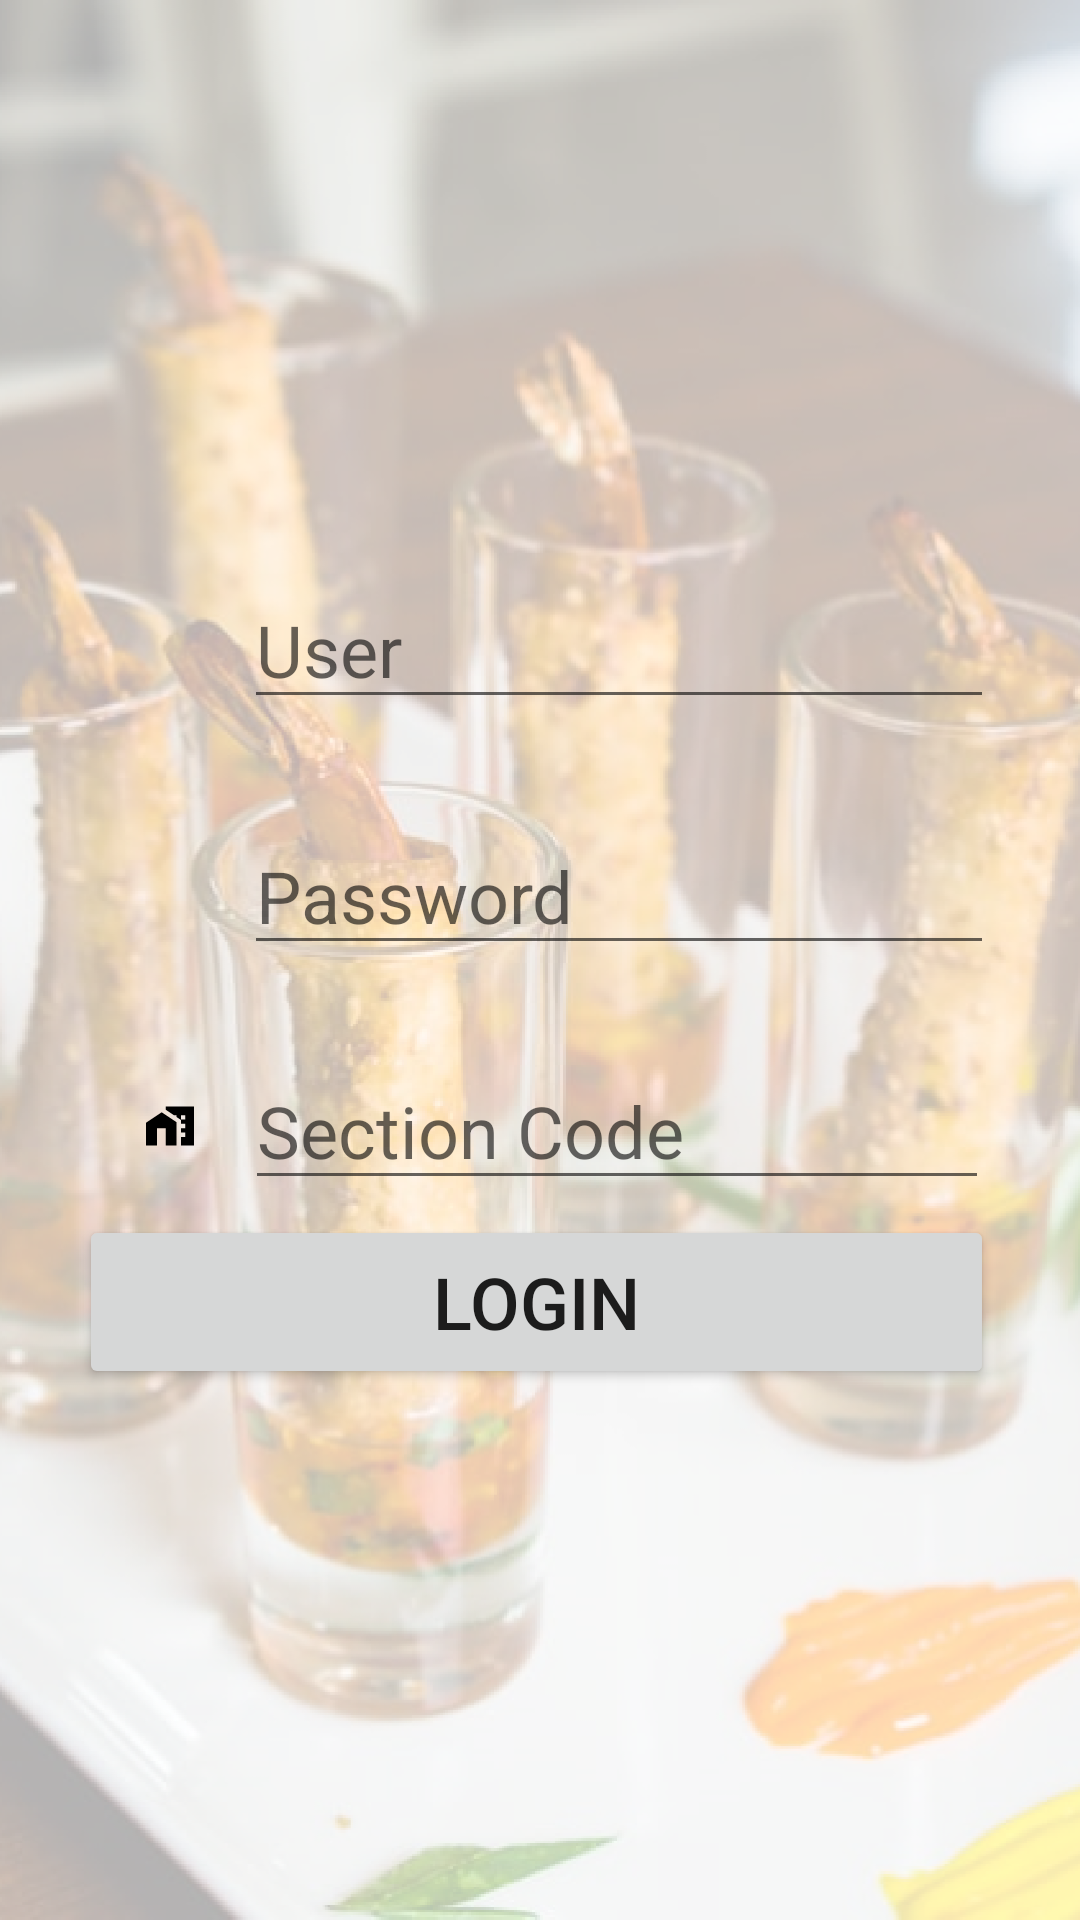

Where icons sit on this 1080x1920 app screen, as (x1, y1, x2, y2):
location work: (125, 1081, 215, 1171)
